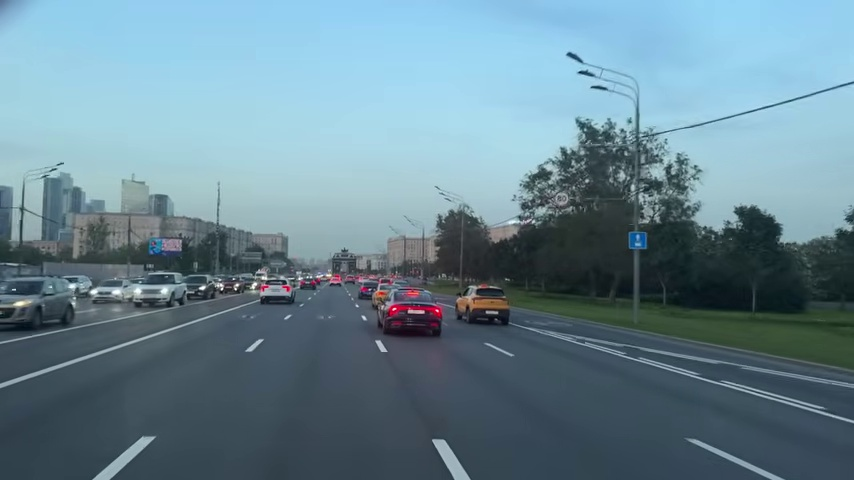apagada: (564, 48, 598, 90), (117, 433, 156, 469), (563, 48, 585, 67), (46, 160, 66, 179)
